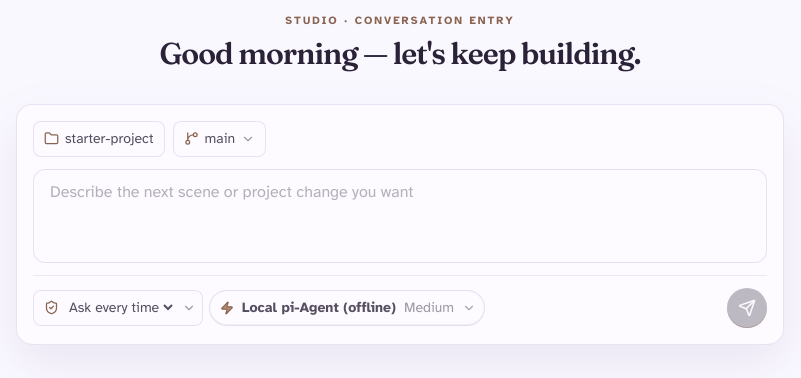
Test: LaunchpadView › opens the branch dropdown and lists local branches
Click the button labelled "main".
click(219, 139)  # box [172,121,266,157]
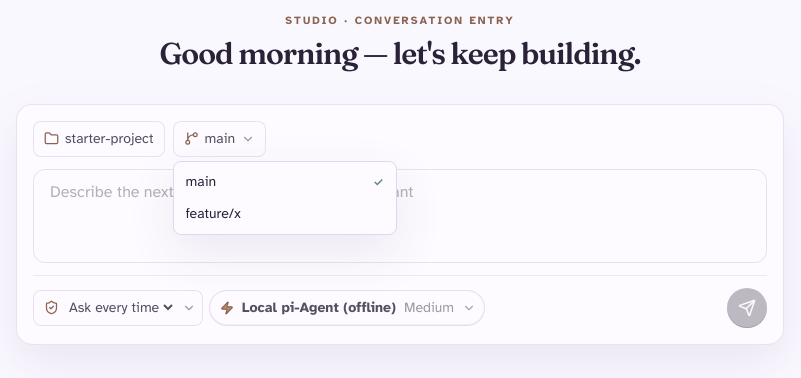
Check: the text "feature/x" is shown, box [186,204,241,224]
